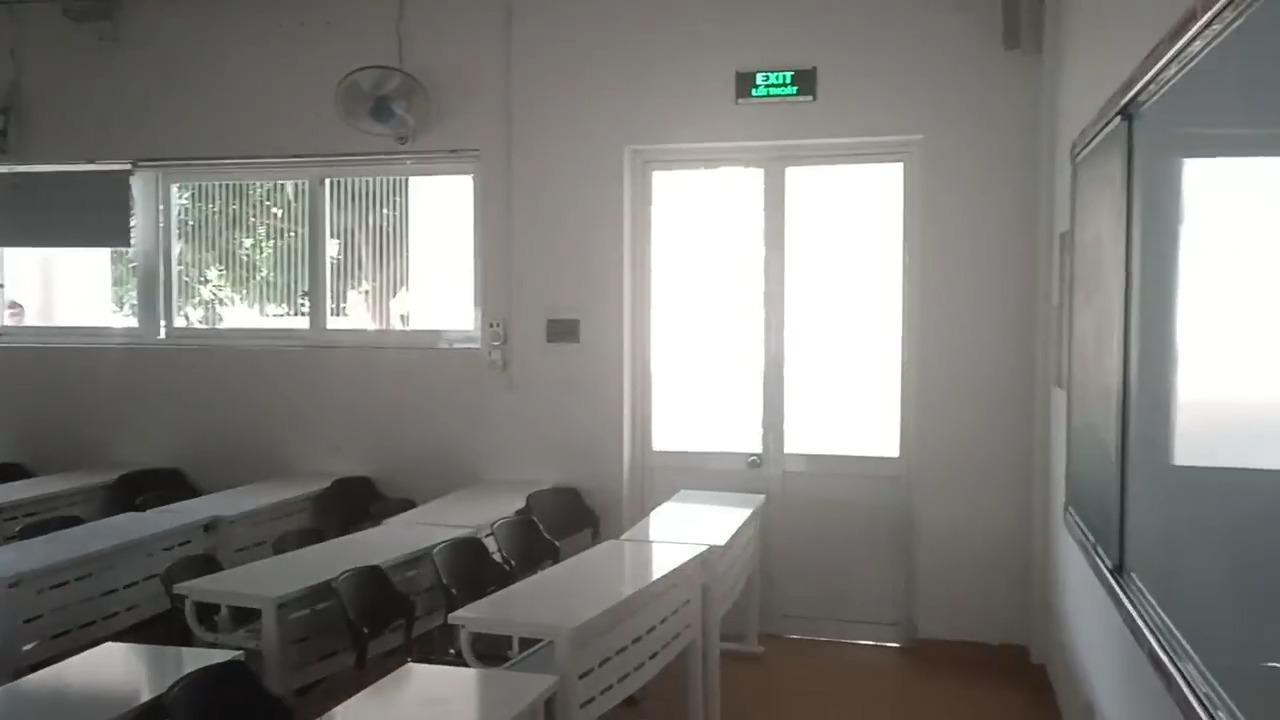board: (1058, 0, 1279, 719)
chair: (333, 565, 418, 666), (163, 664, 297, 717), (431, 539, 511, 607), (526, 490, 602, 547), (493, 518, 558, 572), (321, 478, 389, 525), (118, 469, 192, 504), (162, 557, 222, 588), (22, 516, 85, 538), (274, 531, 323, 552), (0, 459, 39, 484), (145, 489, 200, 506), (370, 500, 413, 521)
fan: (335, 66, 425, 149)
table: (182, 523, 479, 693), (450, 541, 707, 719), (2, 505, 221, 670), (624, 490, 771, 702), (0, 636, 240, 719), (143, 475, 333, 565), (317, 664, 551, 719), (0, 466, 141, 542), (387, 479, 550, 526)
